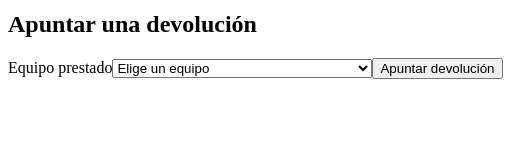
Test: pantalla Apuntar una devolución › apunta la devolución con el token de la sesión y enseña que el equipo está libre
Select "Portátil 07: Ana Pérez hasta 2026-12-15" in the dropdown labelled "Equipo prestado": (242, 68) [112,59,372,78]
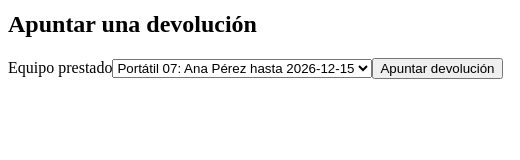
Click the button "Apuntar devolución": click(437, 68) [372,58,502,79]
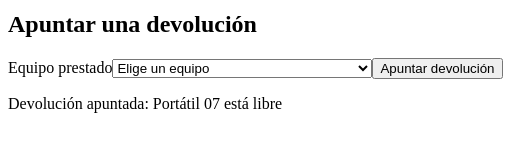
Result: the text "Devolución apuntada: Portátil 07 está libre" is shown at [8,95,282,112]
